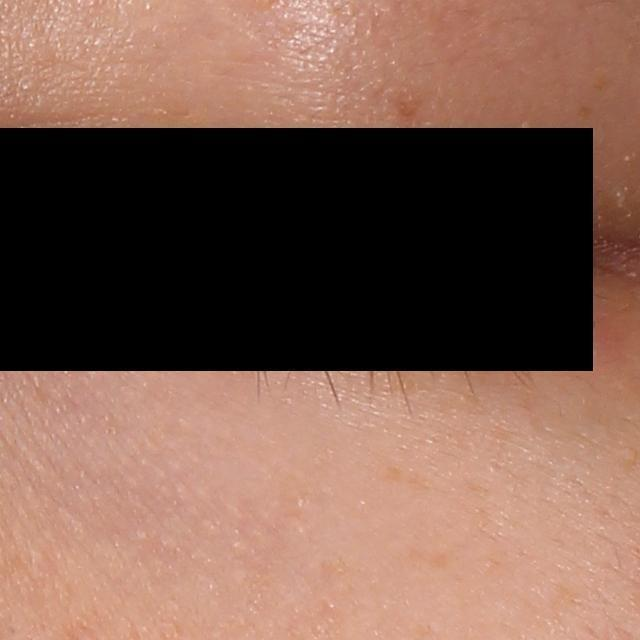melasma: (394, 86, 426, 124)
